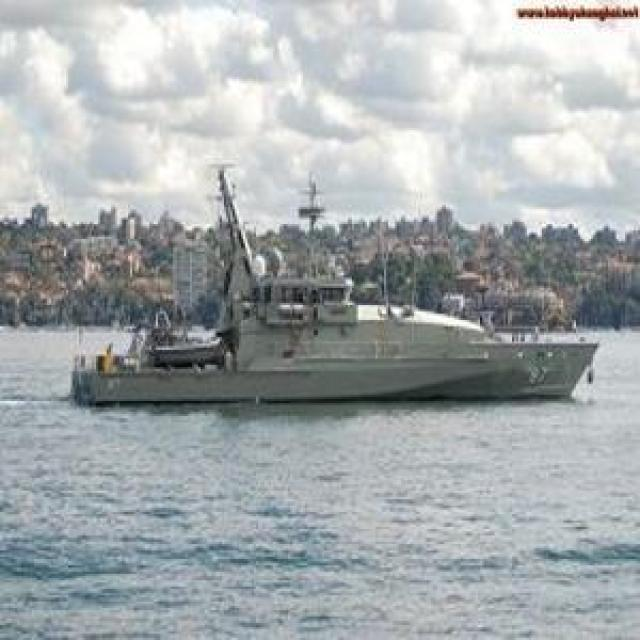navalvessels: (62, 162, 598, 412)
